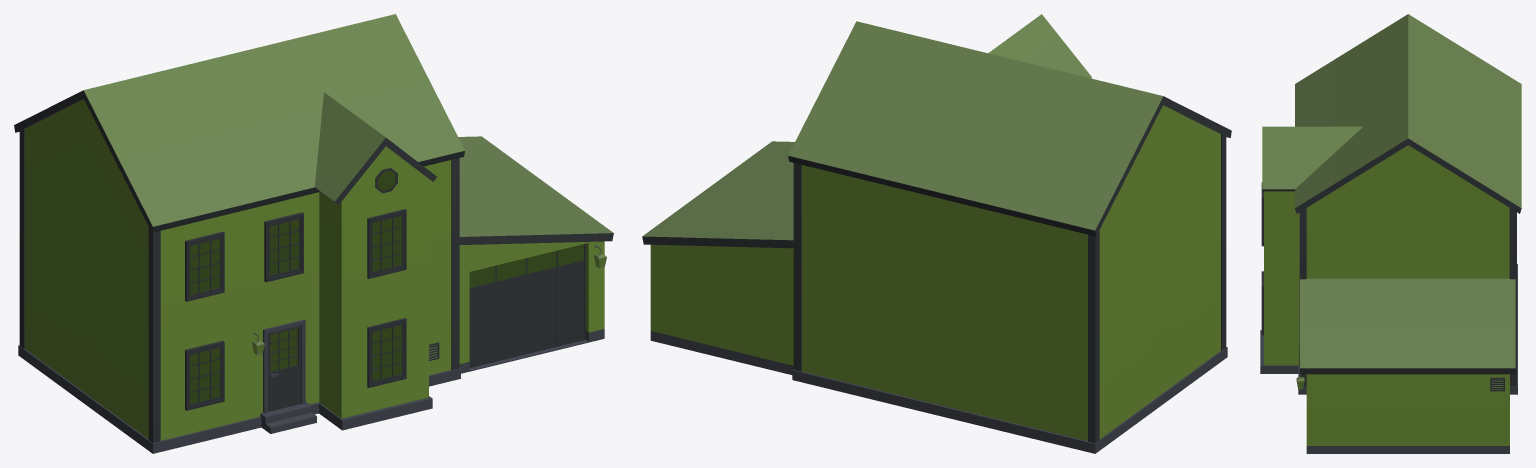
The model's file is SuburbHouse_08.fbx.
The picture shows the model from 3 angles, left to right: view 1: azimuth 30°, elevation 25°; view 2: azimuth 150°, elevation 25°; view 3: azimuth 270°, elevation 25°; orthographic projection. The views are drawn at different scales.
Parts seen in each view (by area): view 1: SuburbHouse_08; view 2: SuburbHouse_08; view 3: SuburbHouse_08.
Part boxes in pixels (x1=…): SuburbHouse_08: x1=14, y1=14, x2=613, y2=453; SuburbHouse_08: x1=642, y1=14, x2=1231, y2=453; SuburbHouse_08: x1=1260, y1=14, x2=1521, y2=453.
Bounding box in the file's own units: 12.18 × 7.9 × 7.28.
